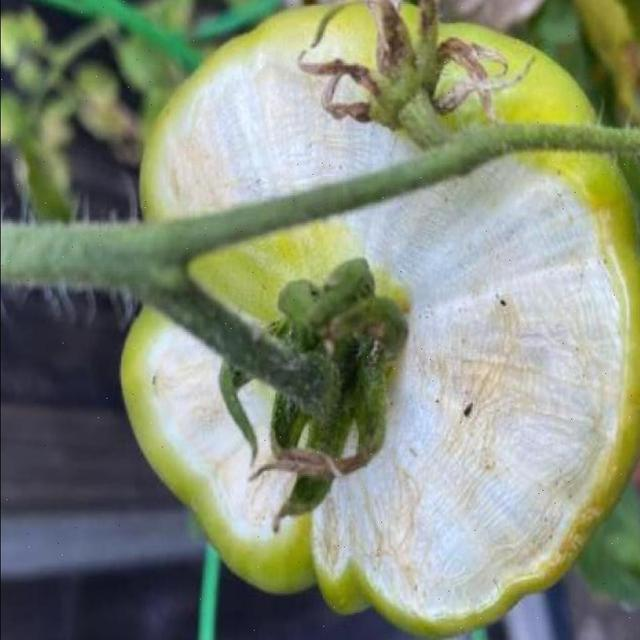Sunscald Fruit: (92, 29, 420, 413)
